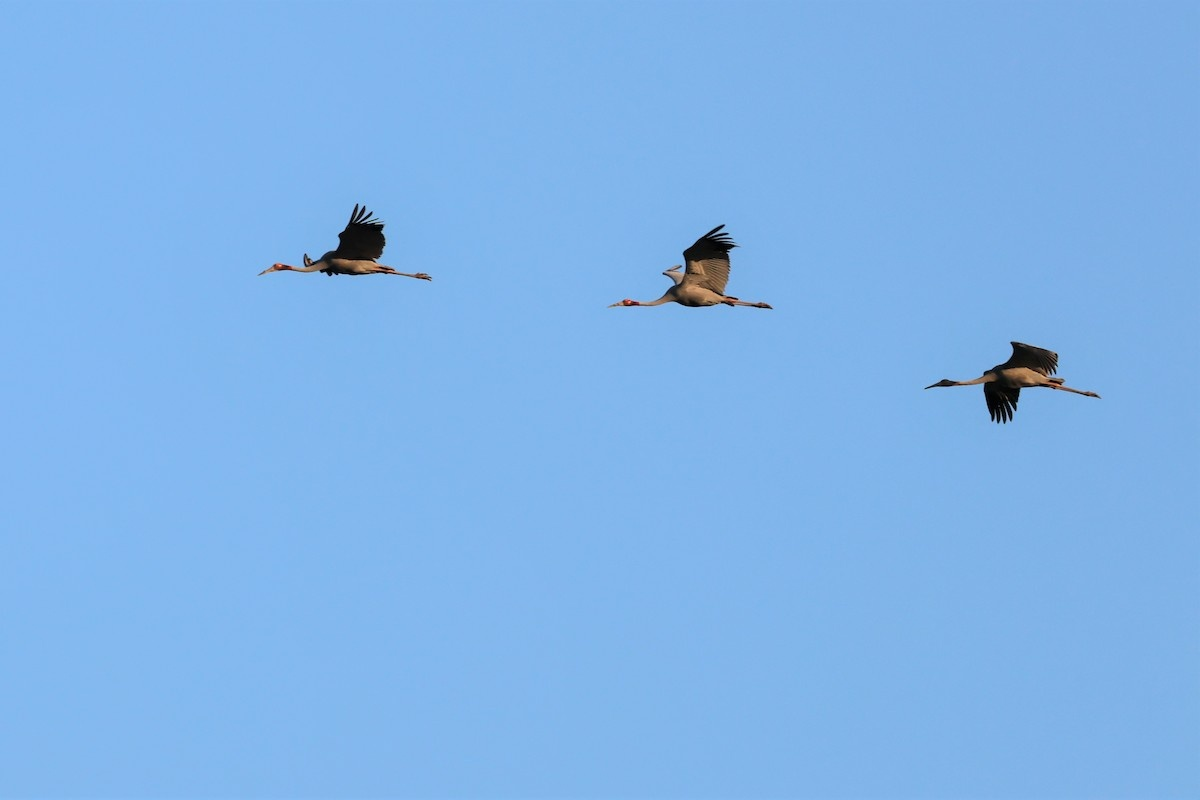crane: (261, 194, 443, 304), (923, 329, 1113, 433), (600, 224, 777, 329)
